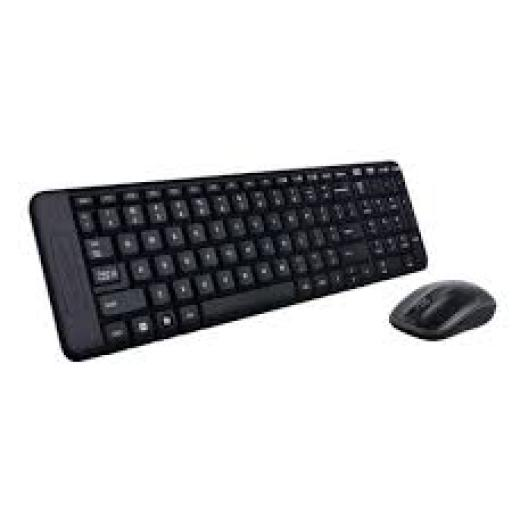keyboard: (32, 162, 426, 360)
